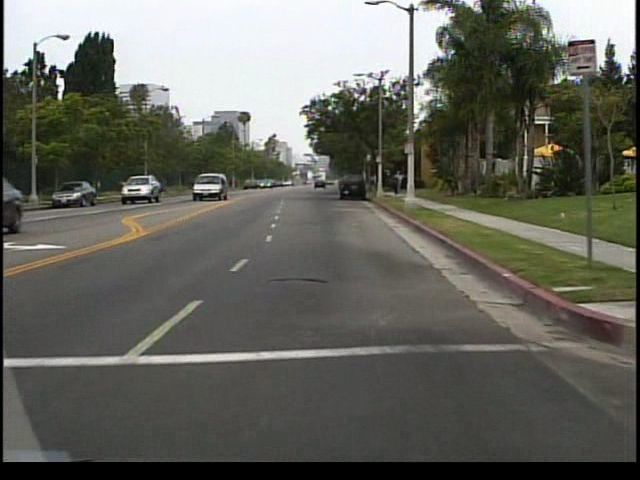person: (394, 169, 407, 197), (391, 173, 399, 194)
